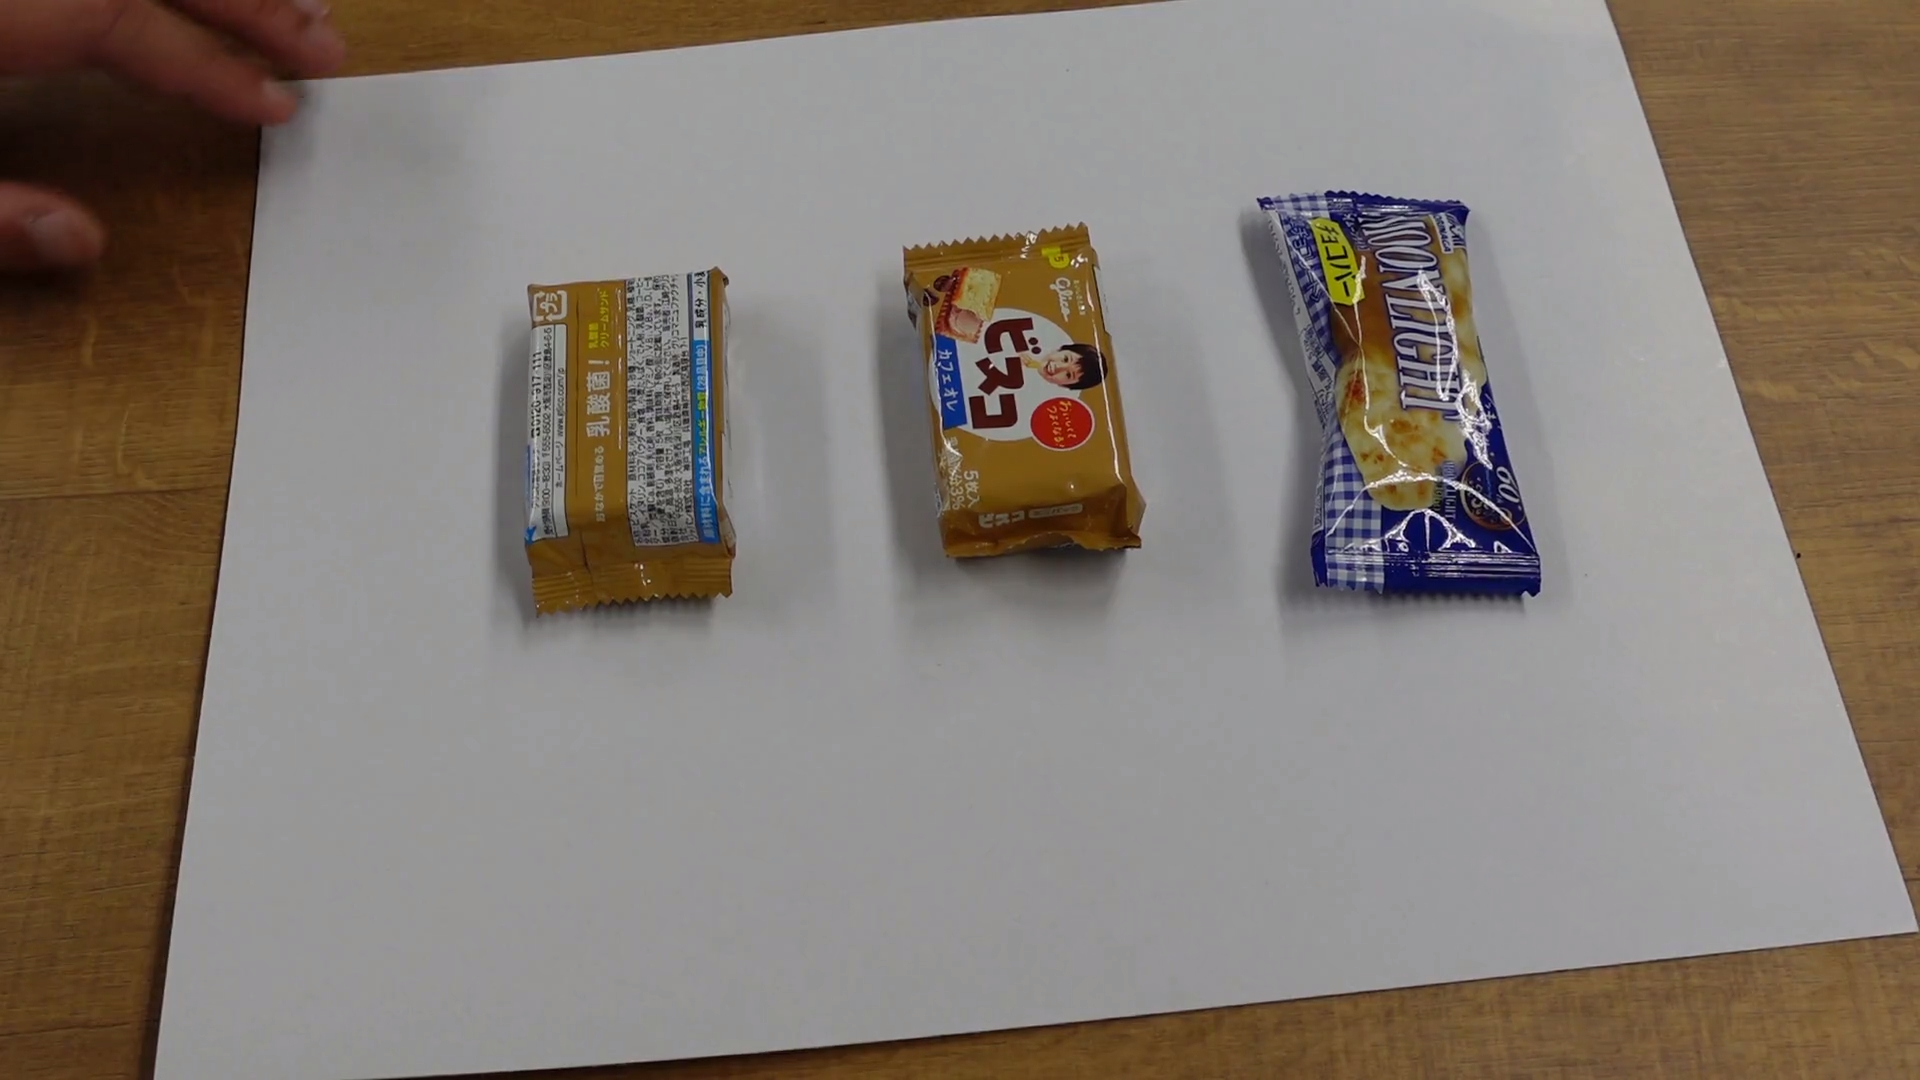BISCO_CafeAuLet: (535, 286, 721, 591), (945, 235, 1087, 550)
